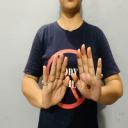hand: (74, 43, 103, 101), (41, 54, 69, 108)
